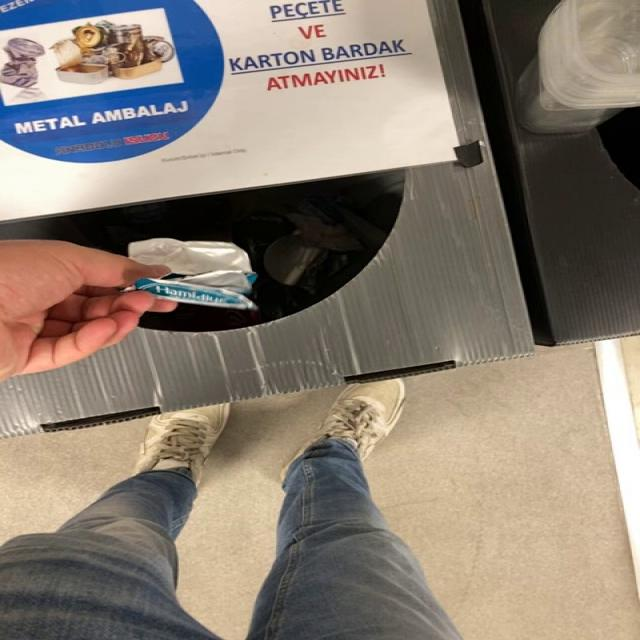metal: (128, 238, 257, 310)
